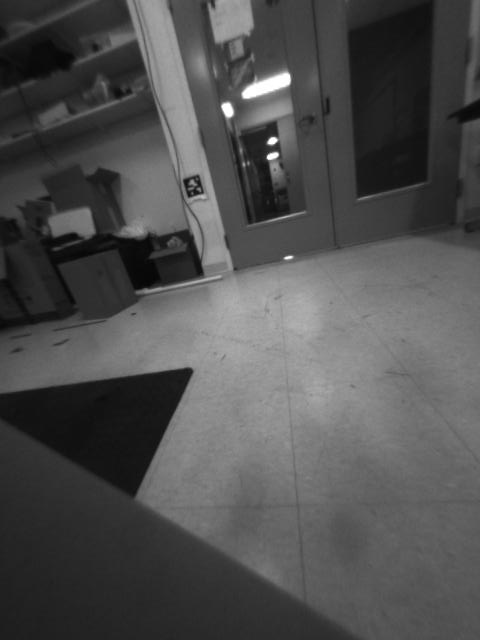door_handle: (291, 105, 320, 131)
